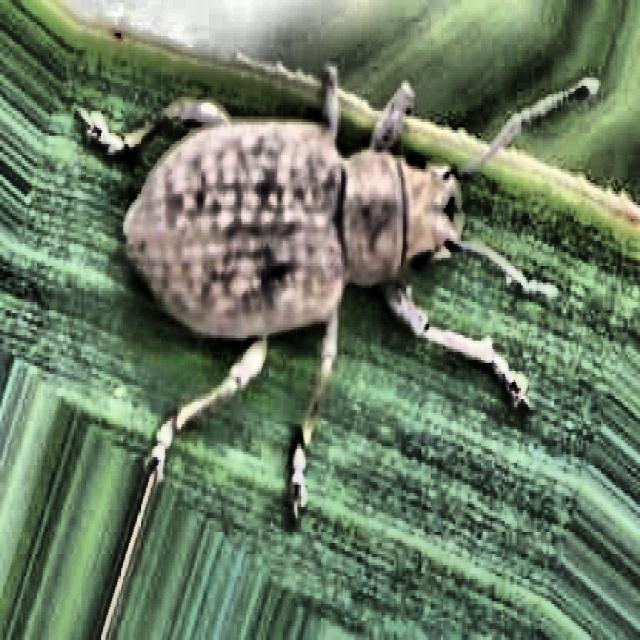Stink bug: (72, 22, 598, 640)
